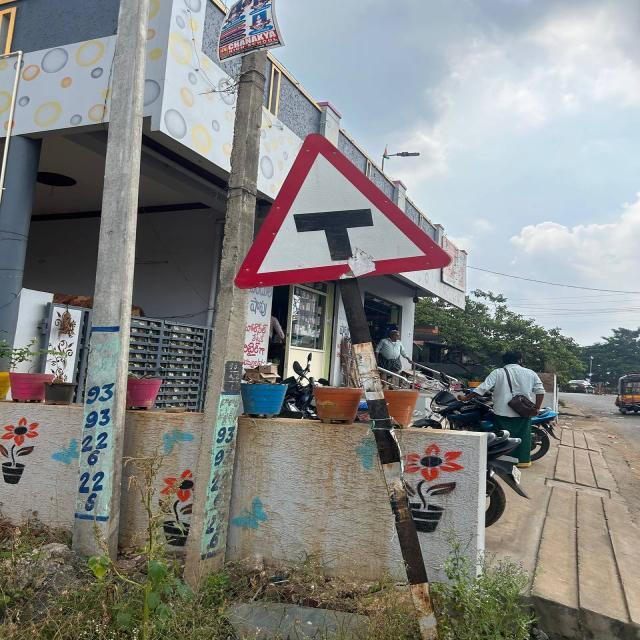t intersection: (230, 122, 457, 290)
